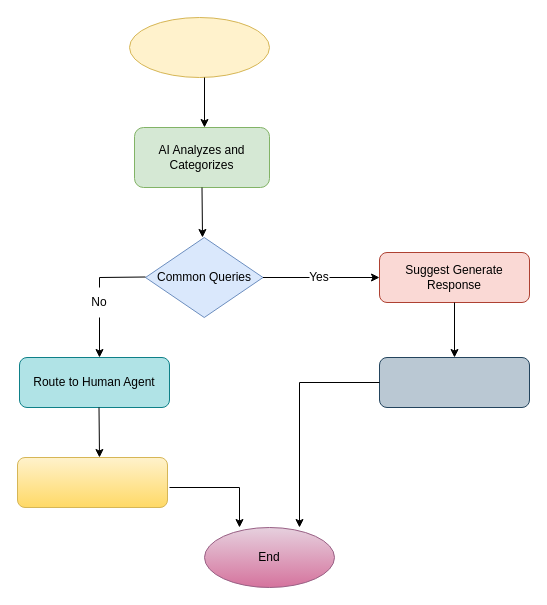
This 547x605 diagram has some shape labels left out. The centre of each missing label's shape, as x and y in pixels:
Human Handle Agents: point 92,482
Incoming Email/Ticket: point 199,47
Send Response: point 454,382
